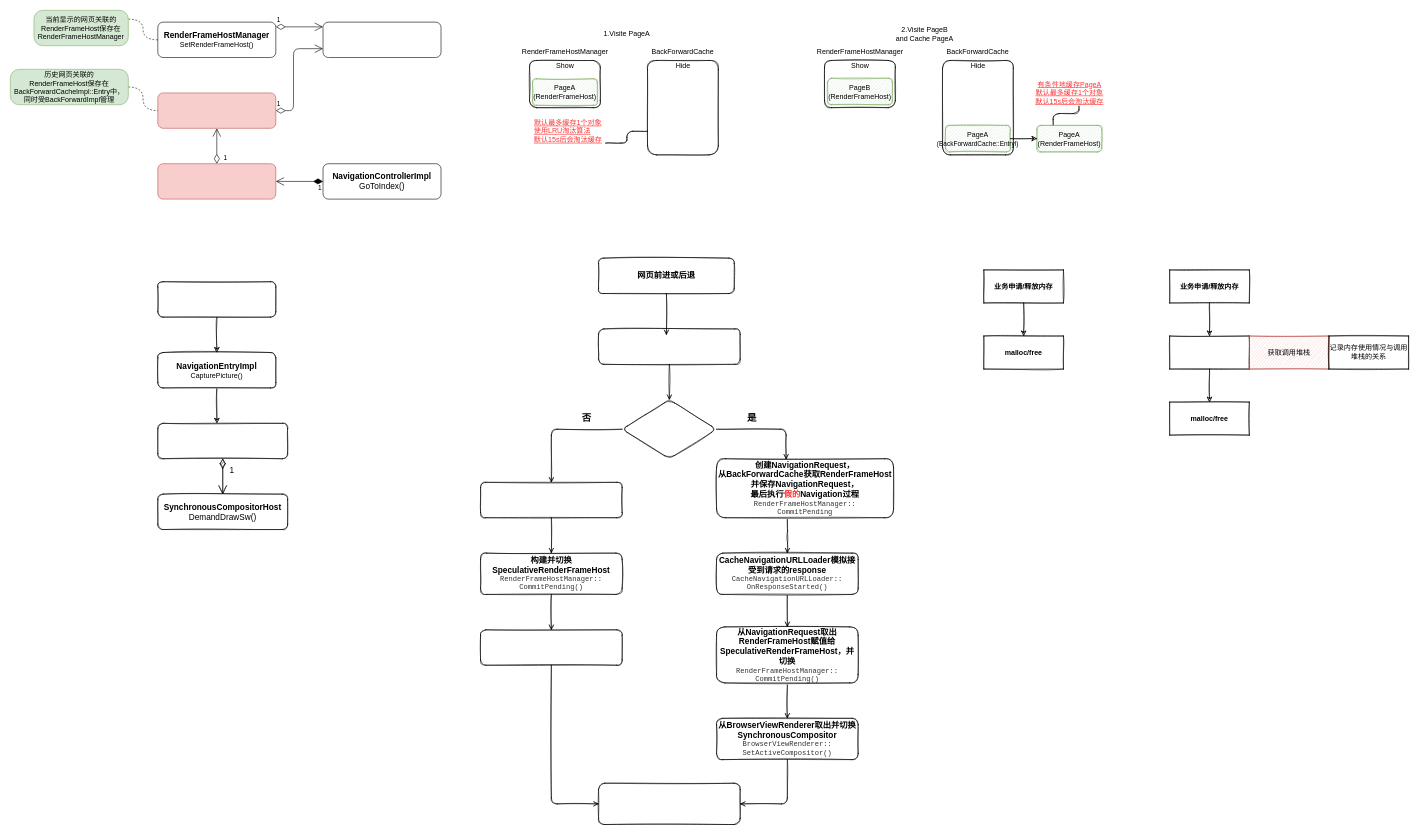
Some shapes in this 1419 by 835 pixel diagram are drawn without their labels. Here are the shapes that lost their labels. From the top down, the centre of each, then its label:
At point (381, 40): "RenderFrameHost".
At point (216, 110): "BackForwardCacheImpl::Entry".
At point (216, 181): "BackForwardCacheImpl CanStorePageNow() StoreEntry() RestoreEntry()".
At point (216, 299): "AwContents CapturePicture() CaptureHistoryPicture()".
At point (669, 346): "找到对应的NavigationEntry NavigationControllerImpl::GoToIndex()".
At point (1209, 352): "hook申请内存的函数".
At point (222, 441): "RenderWidgetHostViewAndroid CapturePicture()".
At point (669, 429): "BackForwarCache 是否有保存对应RenderFrameHost".
At point (551, 500): "创建NavigationRequest并执行完整真实的Navigation过程 Navigation::Navigate()".
At point (551, 647): "构建并切换SynchronousCompositor BrowserViewRenderer:: SetActiveCompositor()".
At point (669, 804): "结束".
